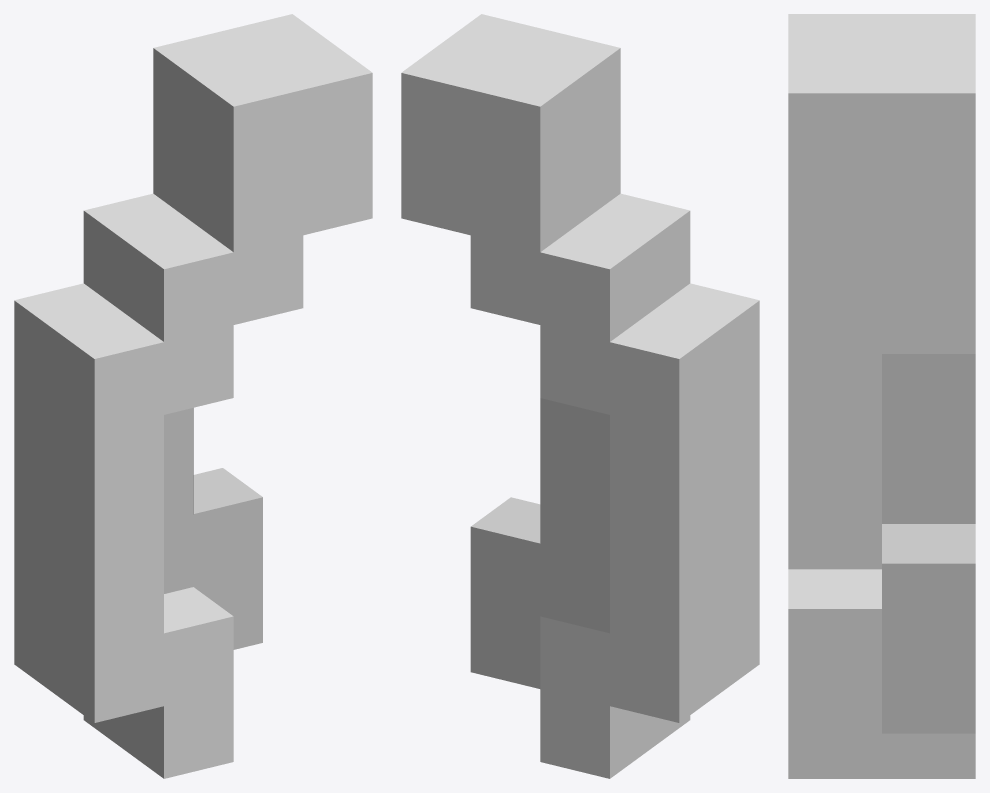
Rendered from Skeleton-3.obj.
3 views of the same model, side by side, from view 1: azimuth 30°, elevation 25°; view 2: azimuth 150°, elevation 25°; view 3: azimuth 270°, elevation 25° (orthographic). The views are drawn at different scales.
Bounding box in the file's own units: 0.4 × 0.9 × 0.2.
Materials: 1 (1 with a texture image).
